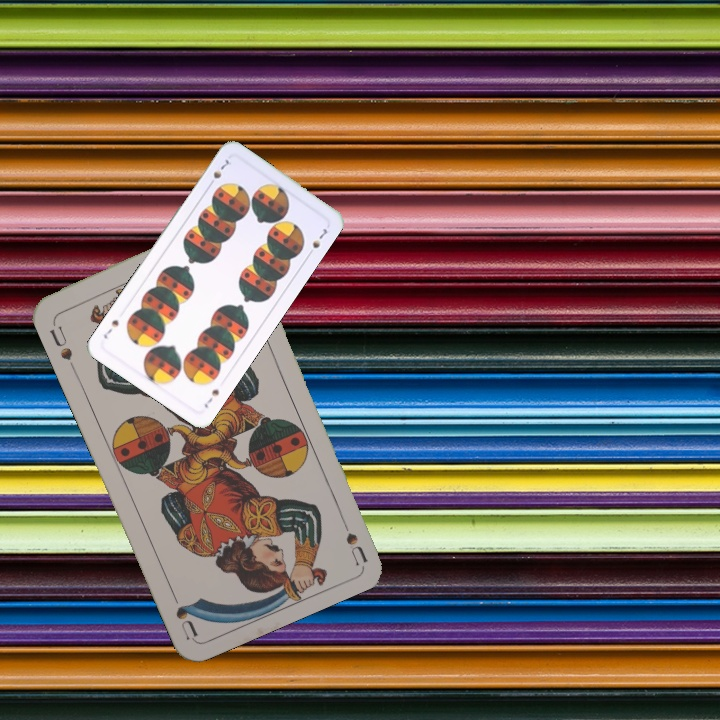S7: (204, 155, 232, 189), (200, 385, 222, 411)
SU: (334, 508, 370, 566), (45, 317, 78, 373)
